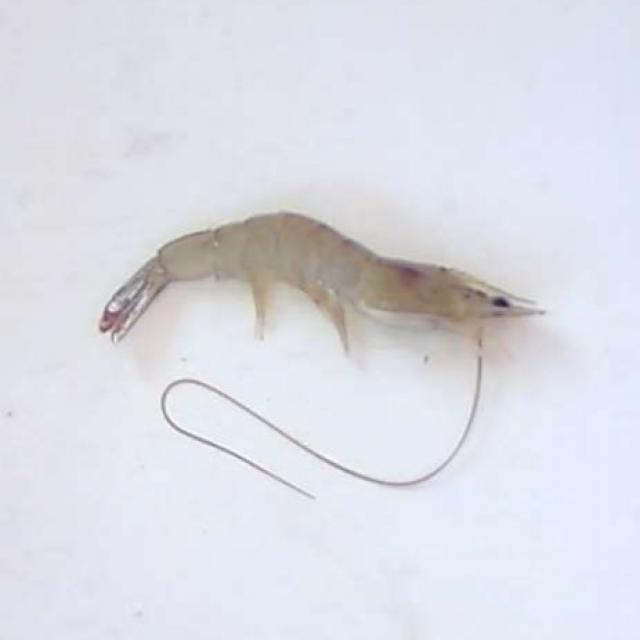shrimp: (100, 211, 545, 353)
